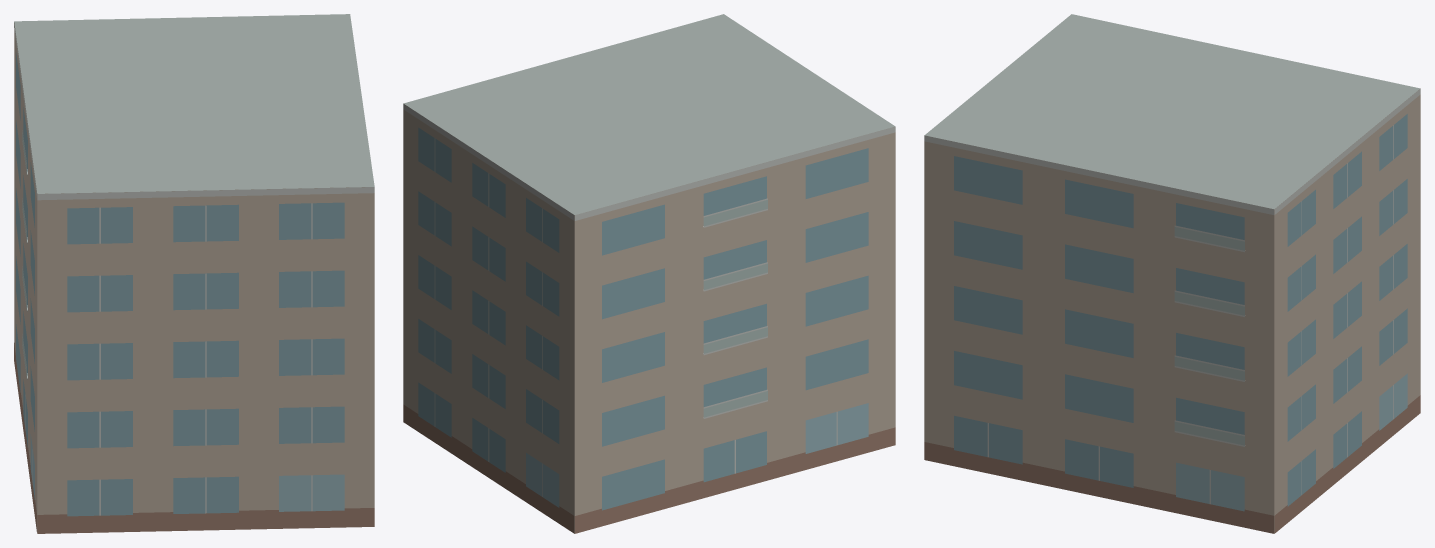
File: survey-upis-33025802.glb
3 views of the same model, side by side, from view 1: azimuth 30°, elevation 25°; view 2: azimuth 150°, elevation 25°; view 3: azimuth 270°, elevation 25° (orthographic). The views are drawn at different scales.
Visible parts, largest first — view 1: survey-upis-33025802.tmp; view 2: survey-upis-33025802.tmp; view 3: survey-upis-33025802.tmp.
Boxes of the visible parts, x1,y1,x2,y2 form: survey-upis-33025802.tmp: (14, 14, 374, 533); survey-upis-33025802.tmp: (403, 14, 895, 533); survey-upis-33025802.tmp: (924, 14, 1420, 533).
Bounding box in the file's own units: 17.04 × 13.2 × 18.29.
